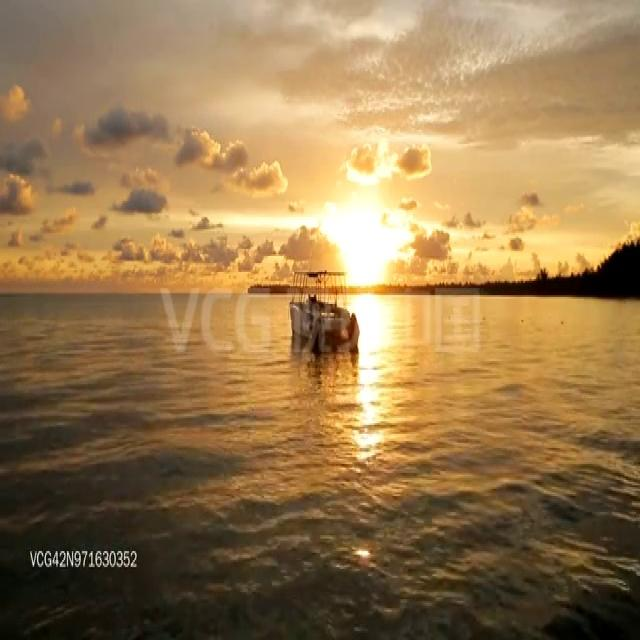houseboat: (286, 261, 355, 354)
